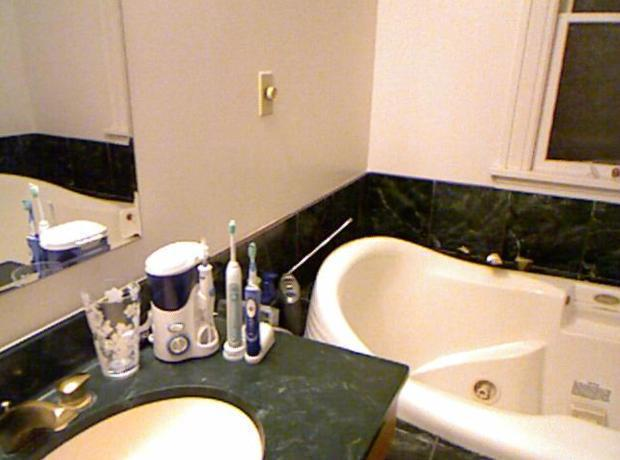Lavamanos: (8, 357, 279, 459)
